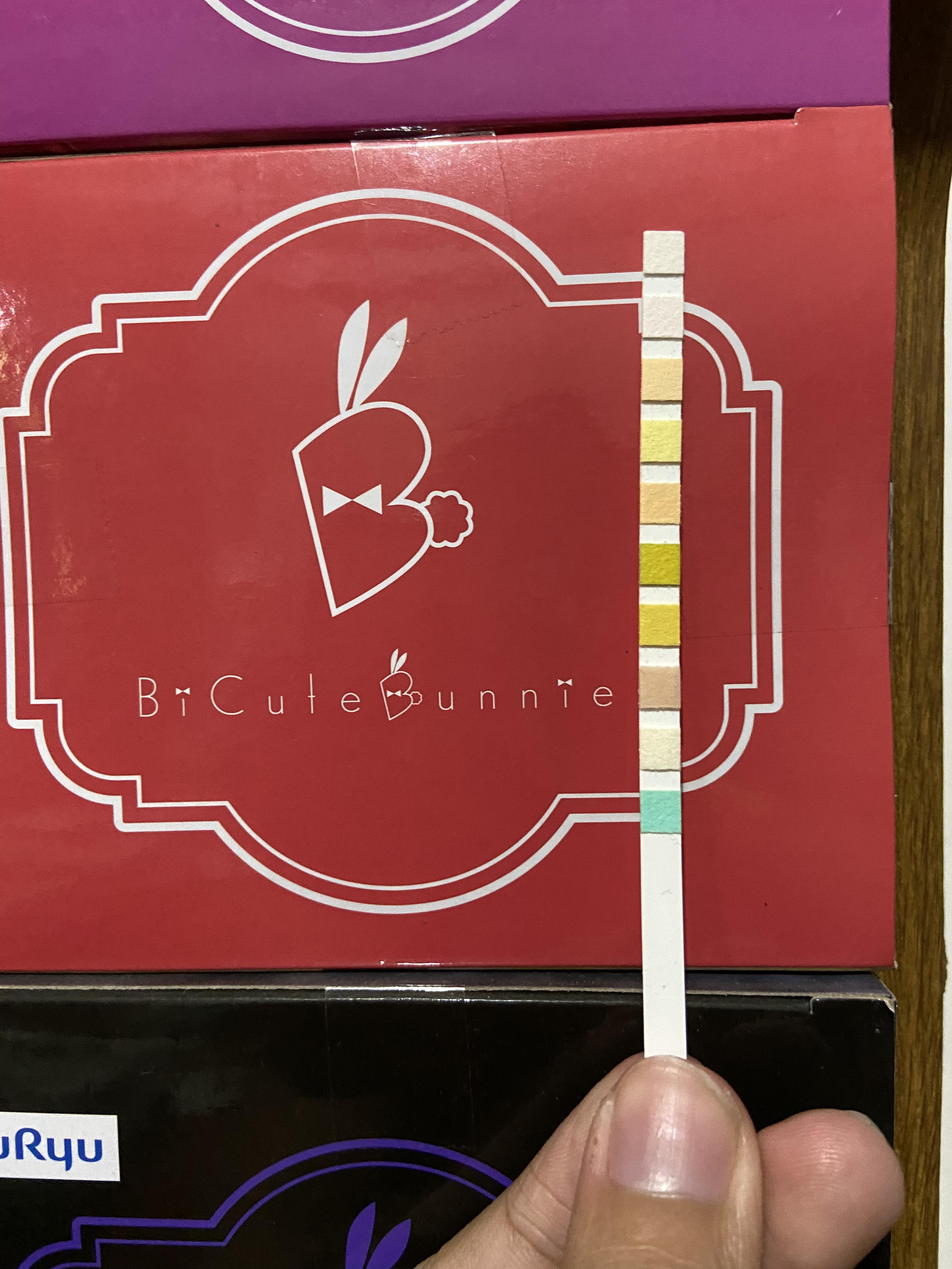Bilirubin: (642, 731, 679, 767)
Blood: (641, 545, 679, 583)
Glucose: (643, 791, 681, 831)
Ketone: (641, 668, 679, 706)
Leukocytes: (645, 234, 682, 272)
Nitrite: (644, 299, 682, 337)
Protein: (642, 422, 680, 462)
SpGravity: (641, 606, 679, 645)
Urobilinogen: (643, 360, 681, 400)
pH: (642, 485, 679, 522)
strip: (639, 231, 687, 1054)
